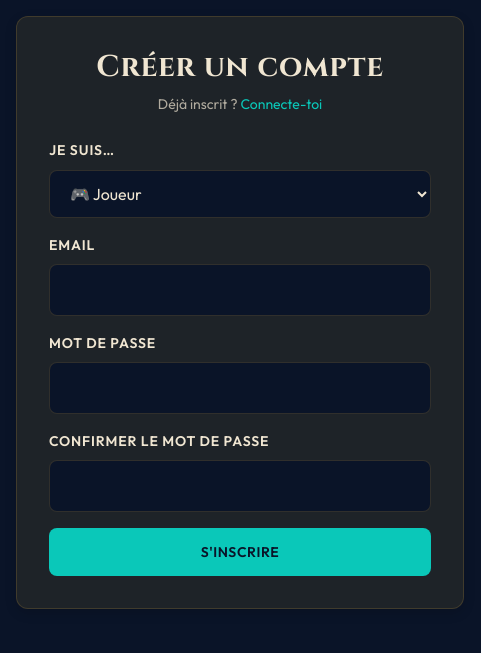
Test case: RegisterPage › shows error when passwords do not match
Type "a@test.com" into the field labelled "Email".
click(240, 290); type("a@test.com")  # box [49,264,431,316]
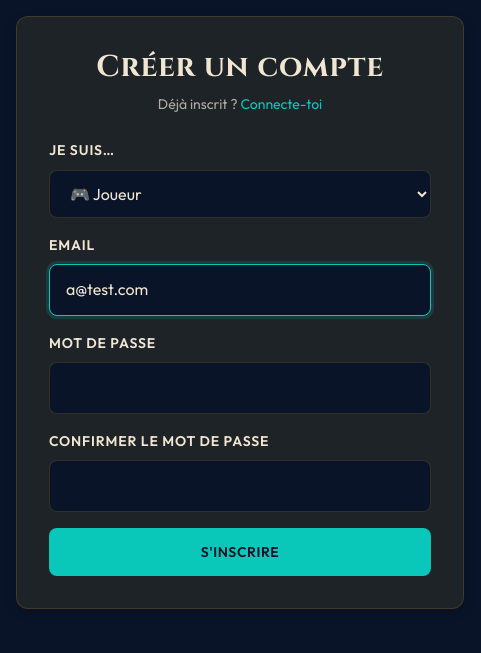
Type "password-2026" into the password field labelled "Mot de passe".
click(240, 388); type("password-2026")  # box [49,362,431,414]
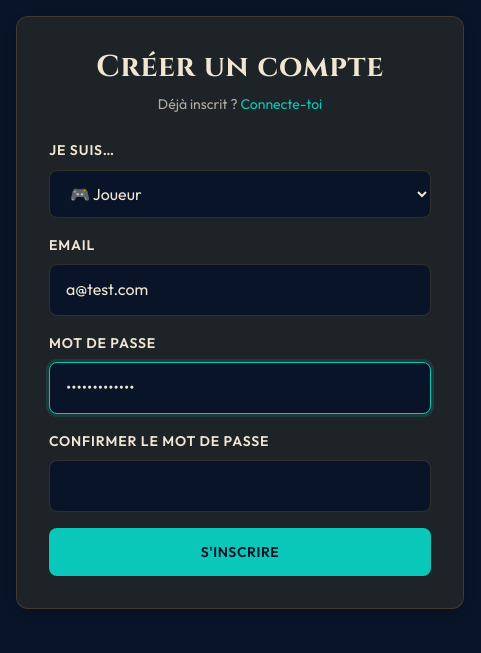
Type "OTHER-password" into the password field labelled "Confirmer le mot de passe".
click(240, 486); type("OTHER-password")  # box [49,460,431,512]
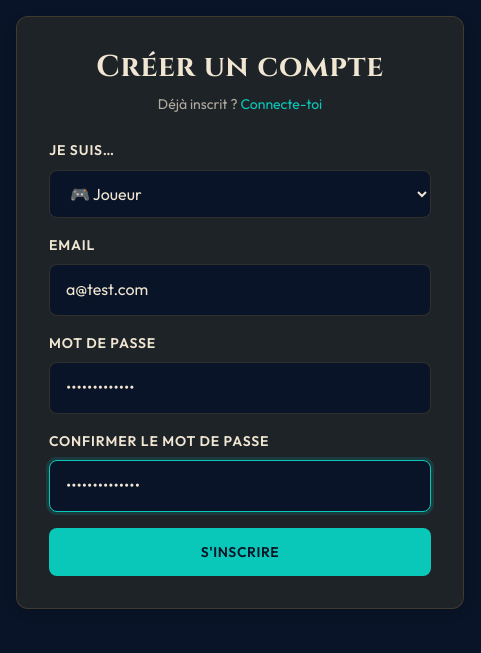
Click the button "S'inscrire".
click(240, 552)  # box [49,528,431,576]
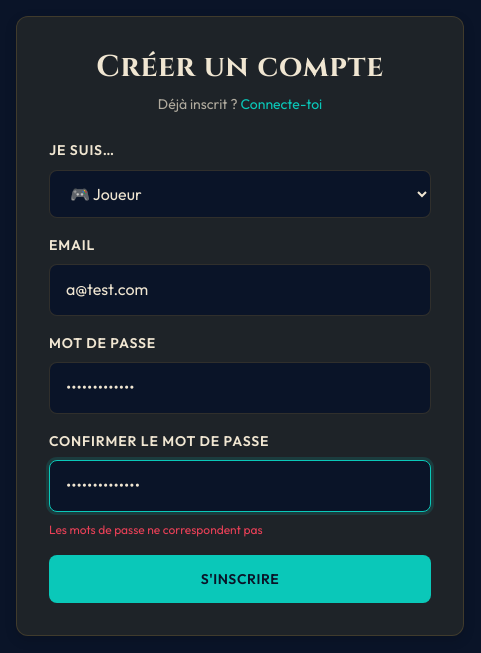
Expected: the text "Les mots de passe ne correspondent pas" is shown, [49,522,263,537]
